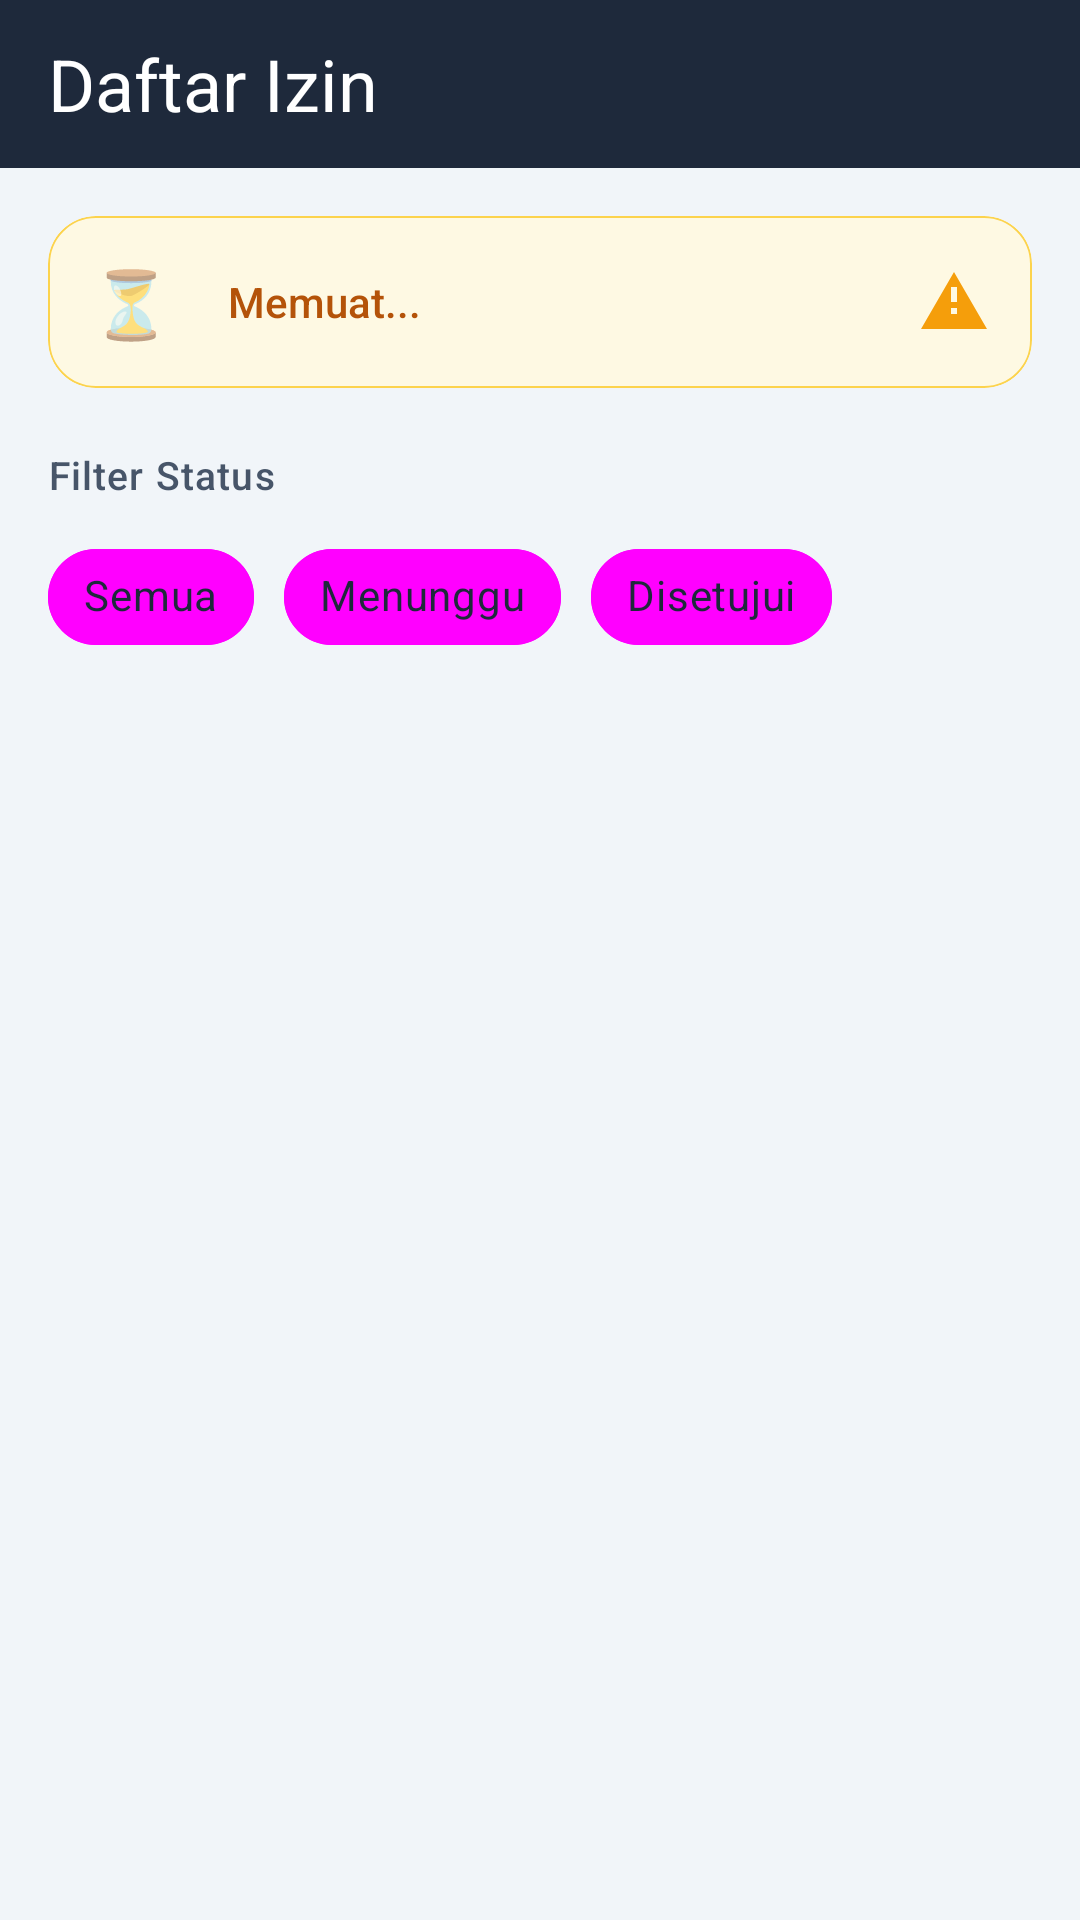

Locate icon controls on the screen. Image size 1080x1920, boxes as (x1, y1, x2, y2).
warning: (921, 272, 987, 329)
